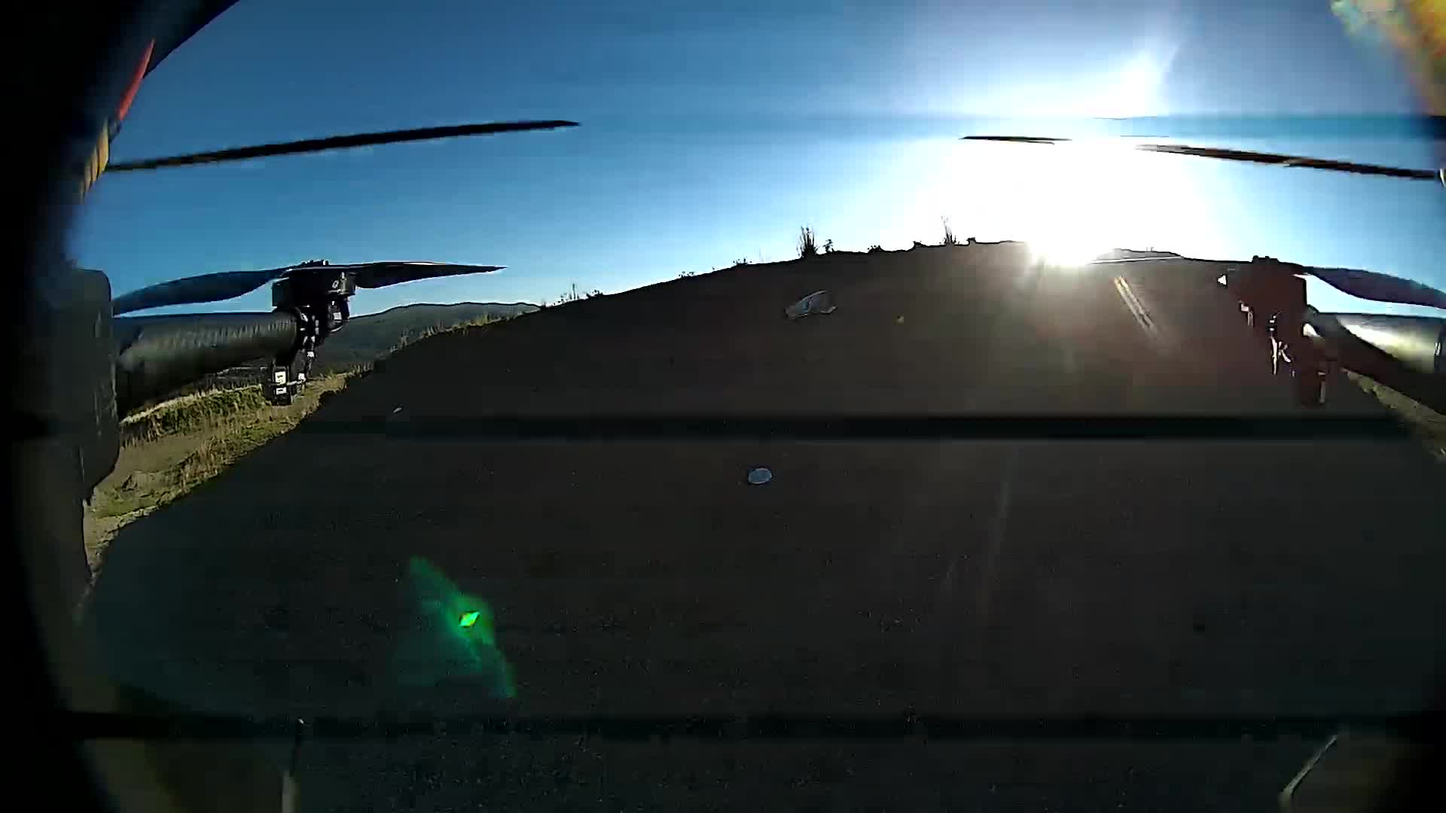Target: (747, 467, 773, 485)
